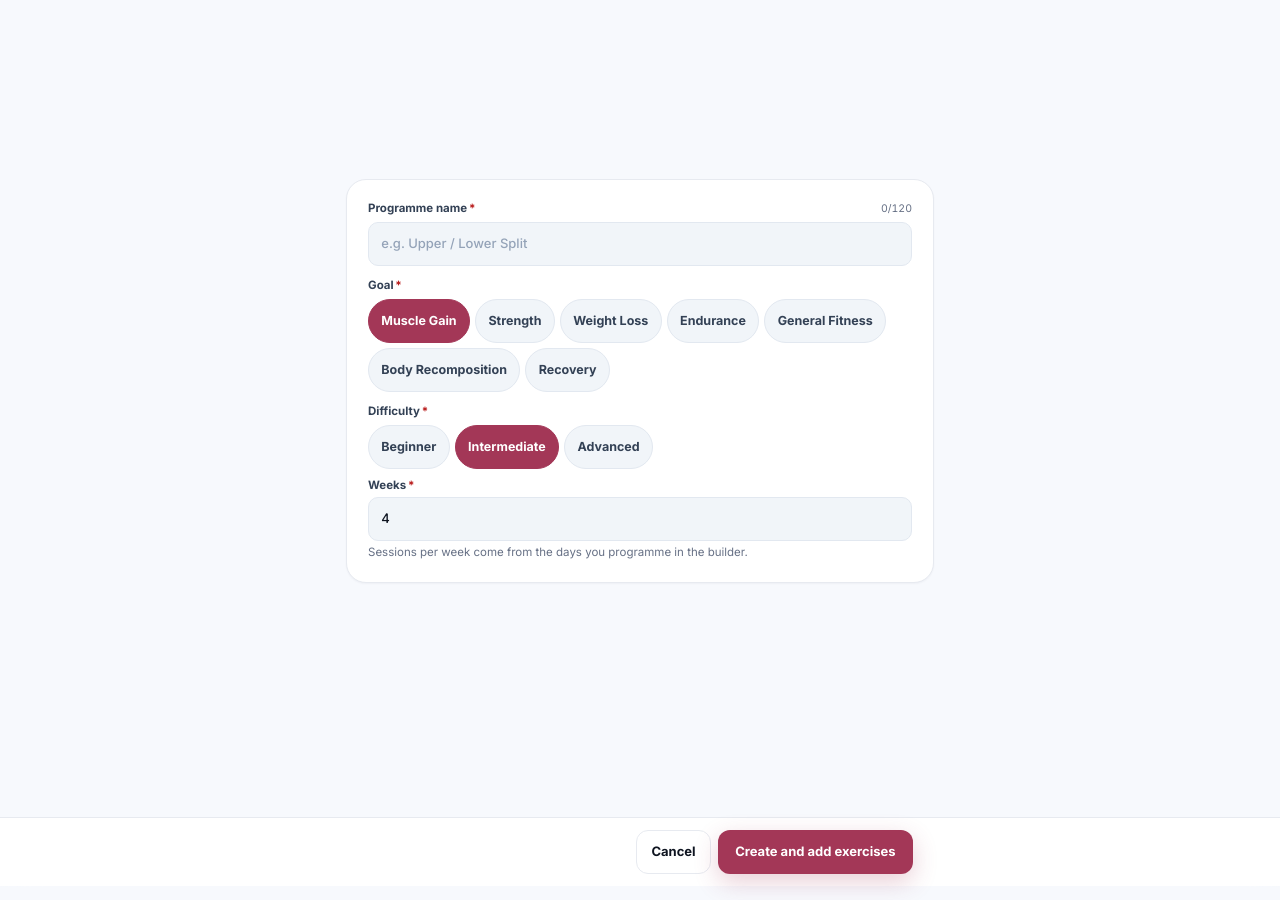
Test: bounds without silently rewriting what was typed › blocks 0 weeks and does not create anything
Type "Test" into the field with placeholder "e.g. Upper / Lower Split" at [640, 244], box x1=368 y1=222 x2=912 y2=266
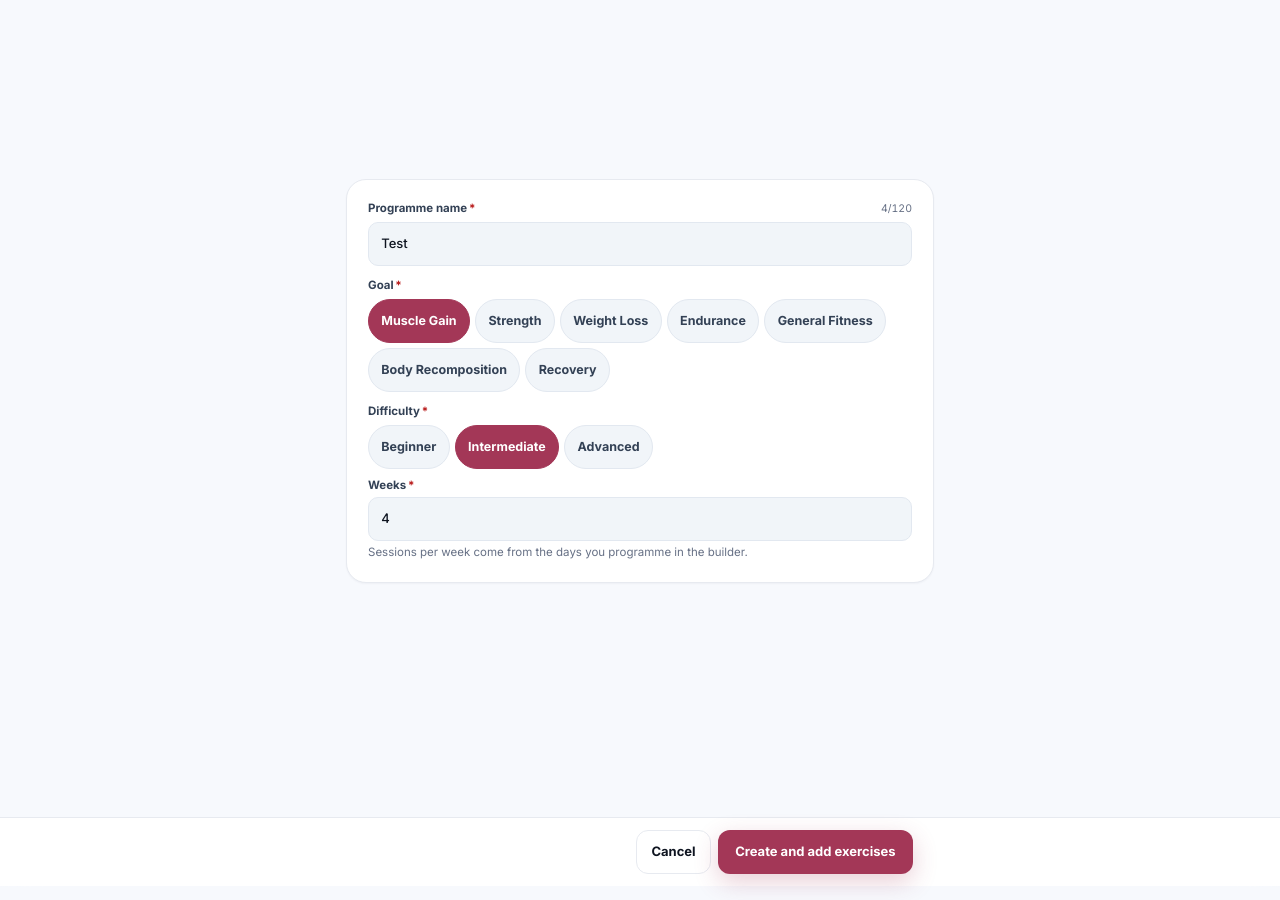
Replace the text in the field labelled "Weeks" with "0" at [640, 519], box x1=368 y1=497 x2=912 y2=541
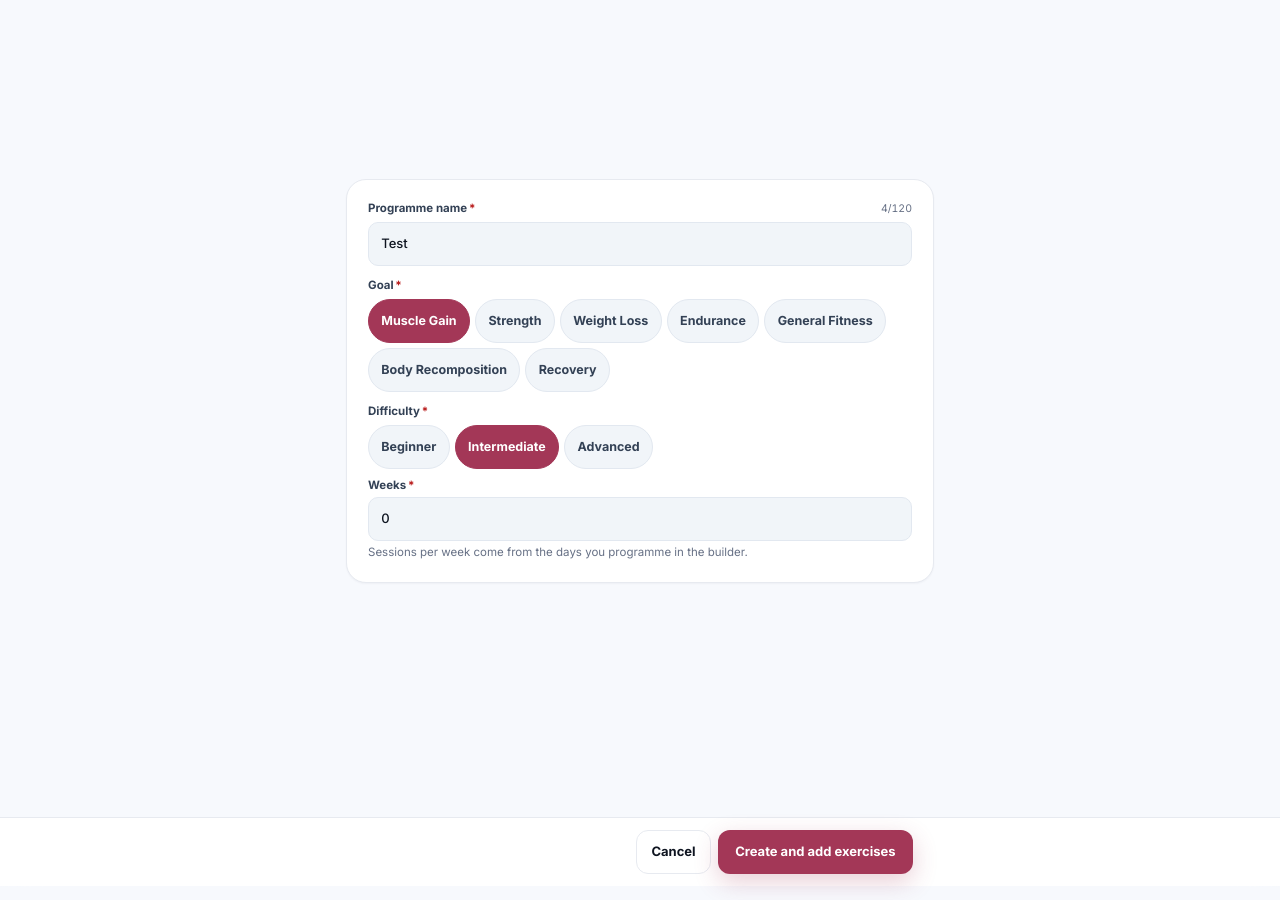
Click the button "Create and add exercises" at [815, 852], box x1=718 y1=830 x2=913 y2=874
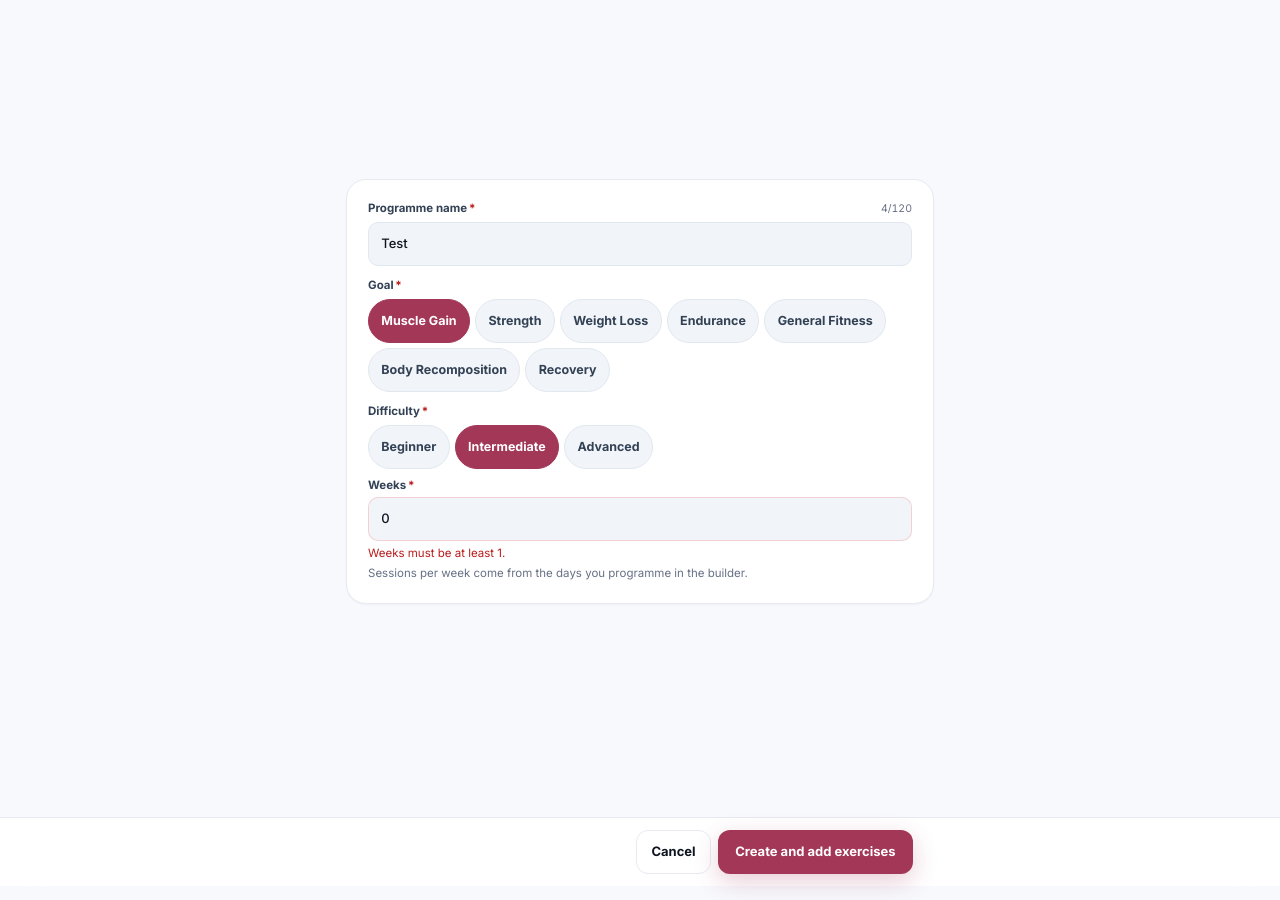
expect the text "Weeks must be at least 1." is shown: met, box x1=368 y1=546 x2=505 y2=560
